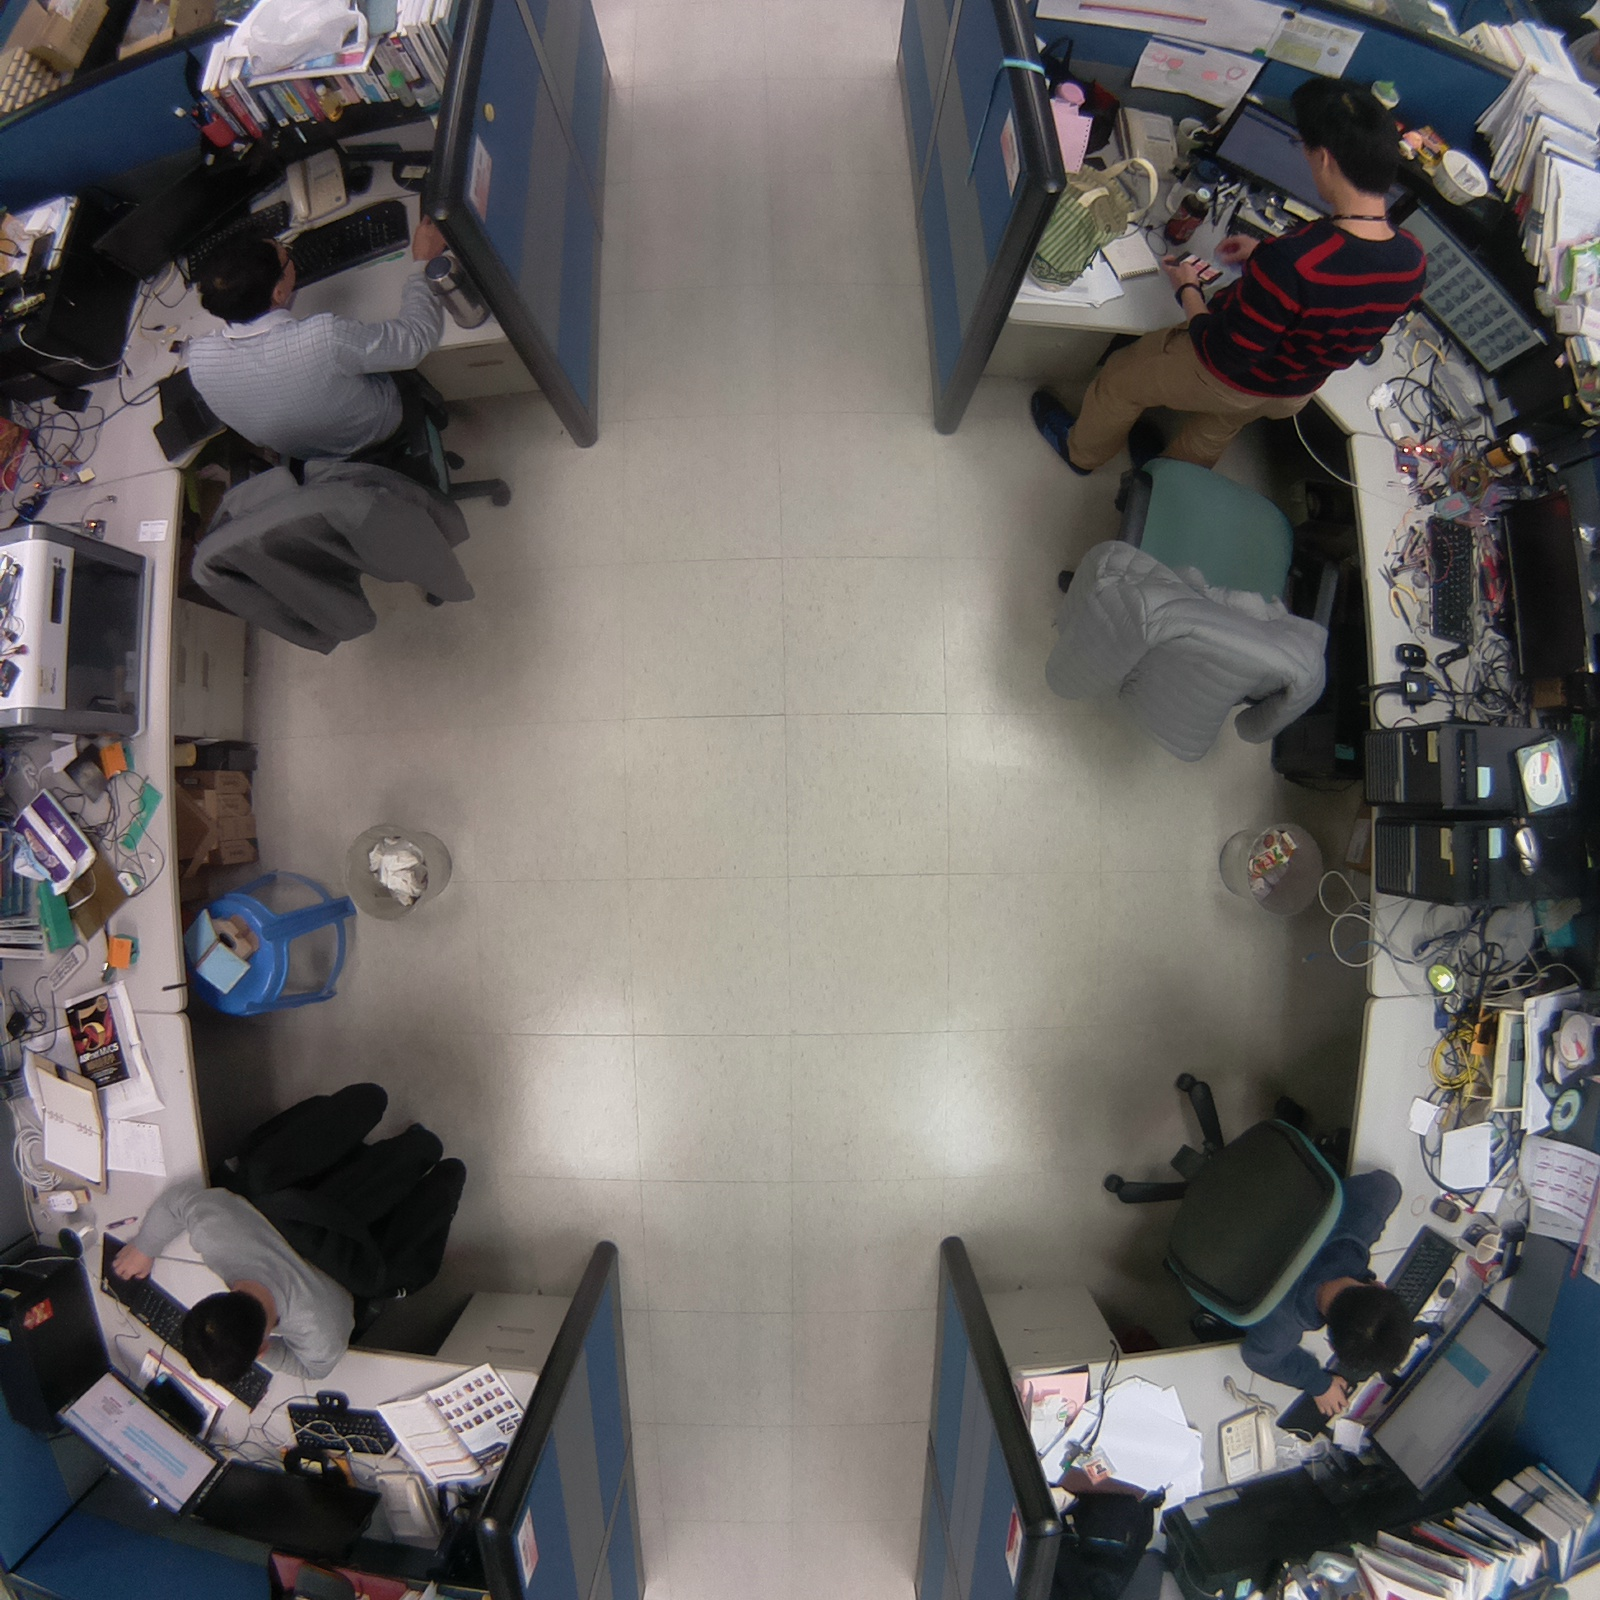chair: (1026, 435, 1339, 774)
sitting: (148, 190, 526, 664), (1081, 1045, 1429, 1433), (94, 1071, 484, 1390)
standing: (1012, 64, 1443, 495)
